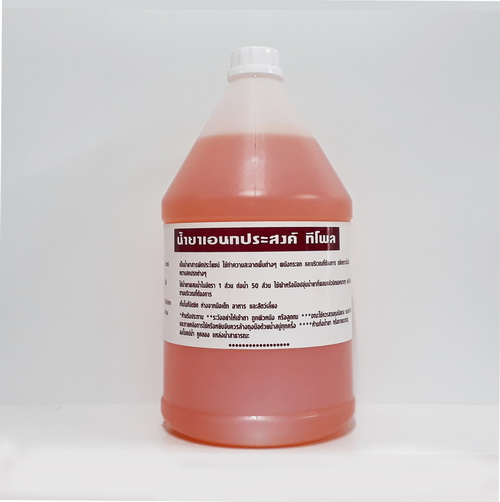Cleaning_solution: (154, 36, 365, 456)
